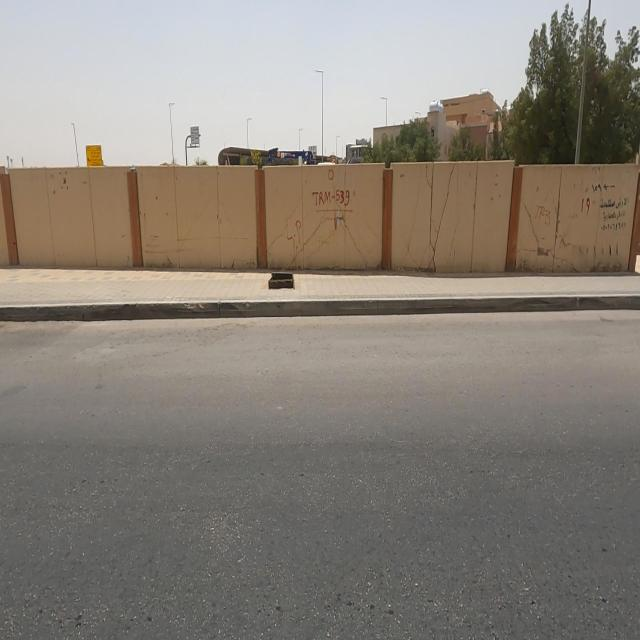Graffiti: (313, 188, 357, 227), (601, 197, 630, 233), (287, 215, 304, 250), (592, 174, 617, 196), (537, 205, 553, 225), (579, 197, 594, 216)
